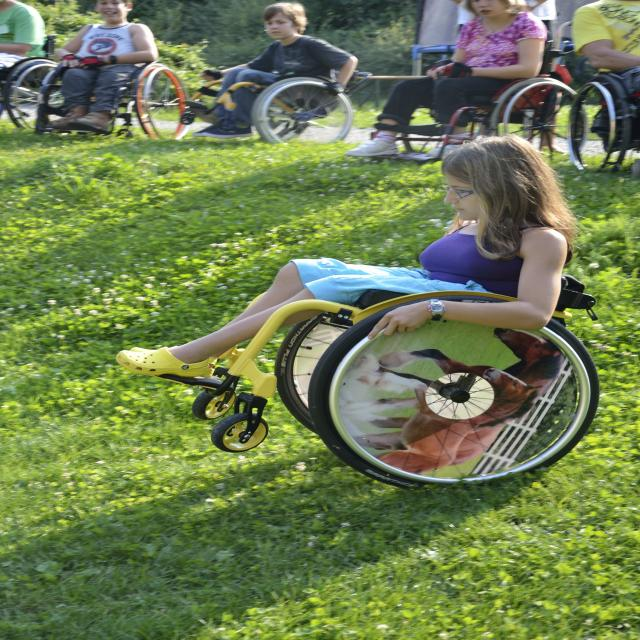wheelchairs: (110, 254, 612, 498), (374, 42, 575, 171), (196, 61, 367, 148), (551, 37, 640, 175), (56, 62, 192, 141), (0, 53, 49, 137)
